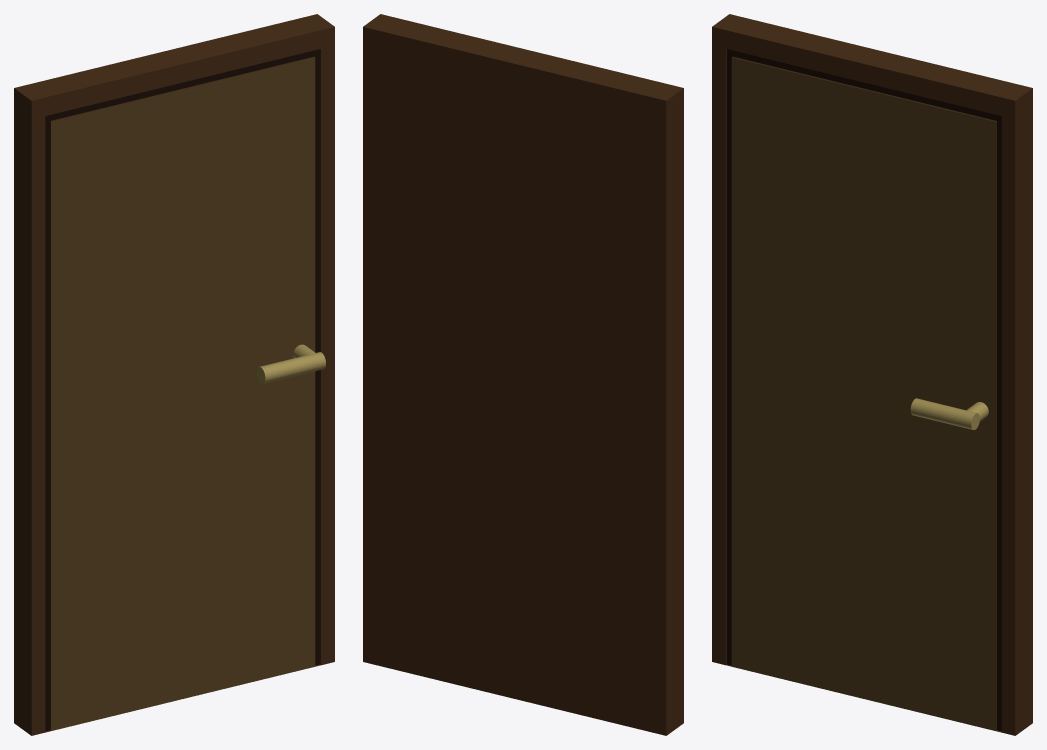
File: Pintu.fbx
3 renders of one model, left to right at view 1: azimuth 30°, elevation 25°; view 2: azimuth 150°, elevation 25°; view 3: azimuth 330°, elevation 25°, orthographic.
Visible parts, largest first — view 1: Cube.001; view 2: Cube.001; view 3: Cube.001.
Boxes of the visible parts, left/top/right/bottom form: Cube.001: left=14, top=14, right=334, bottom=735; Cube.001: left=363, top=14, right=683, bottom=735; Cube.001: left=712, top=14, right=1032, bottom=735.
Bounding box in the file's own units: 400 × 800 × 80.29.
